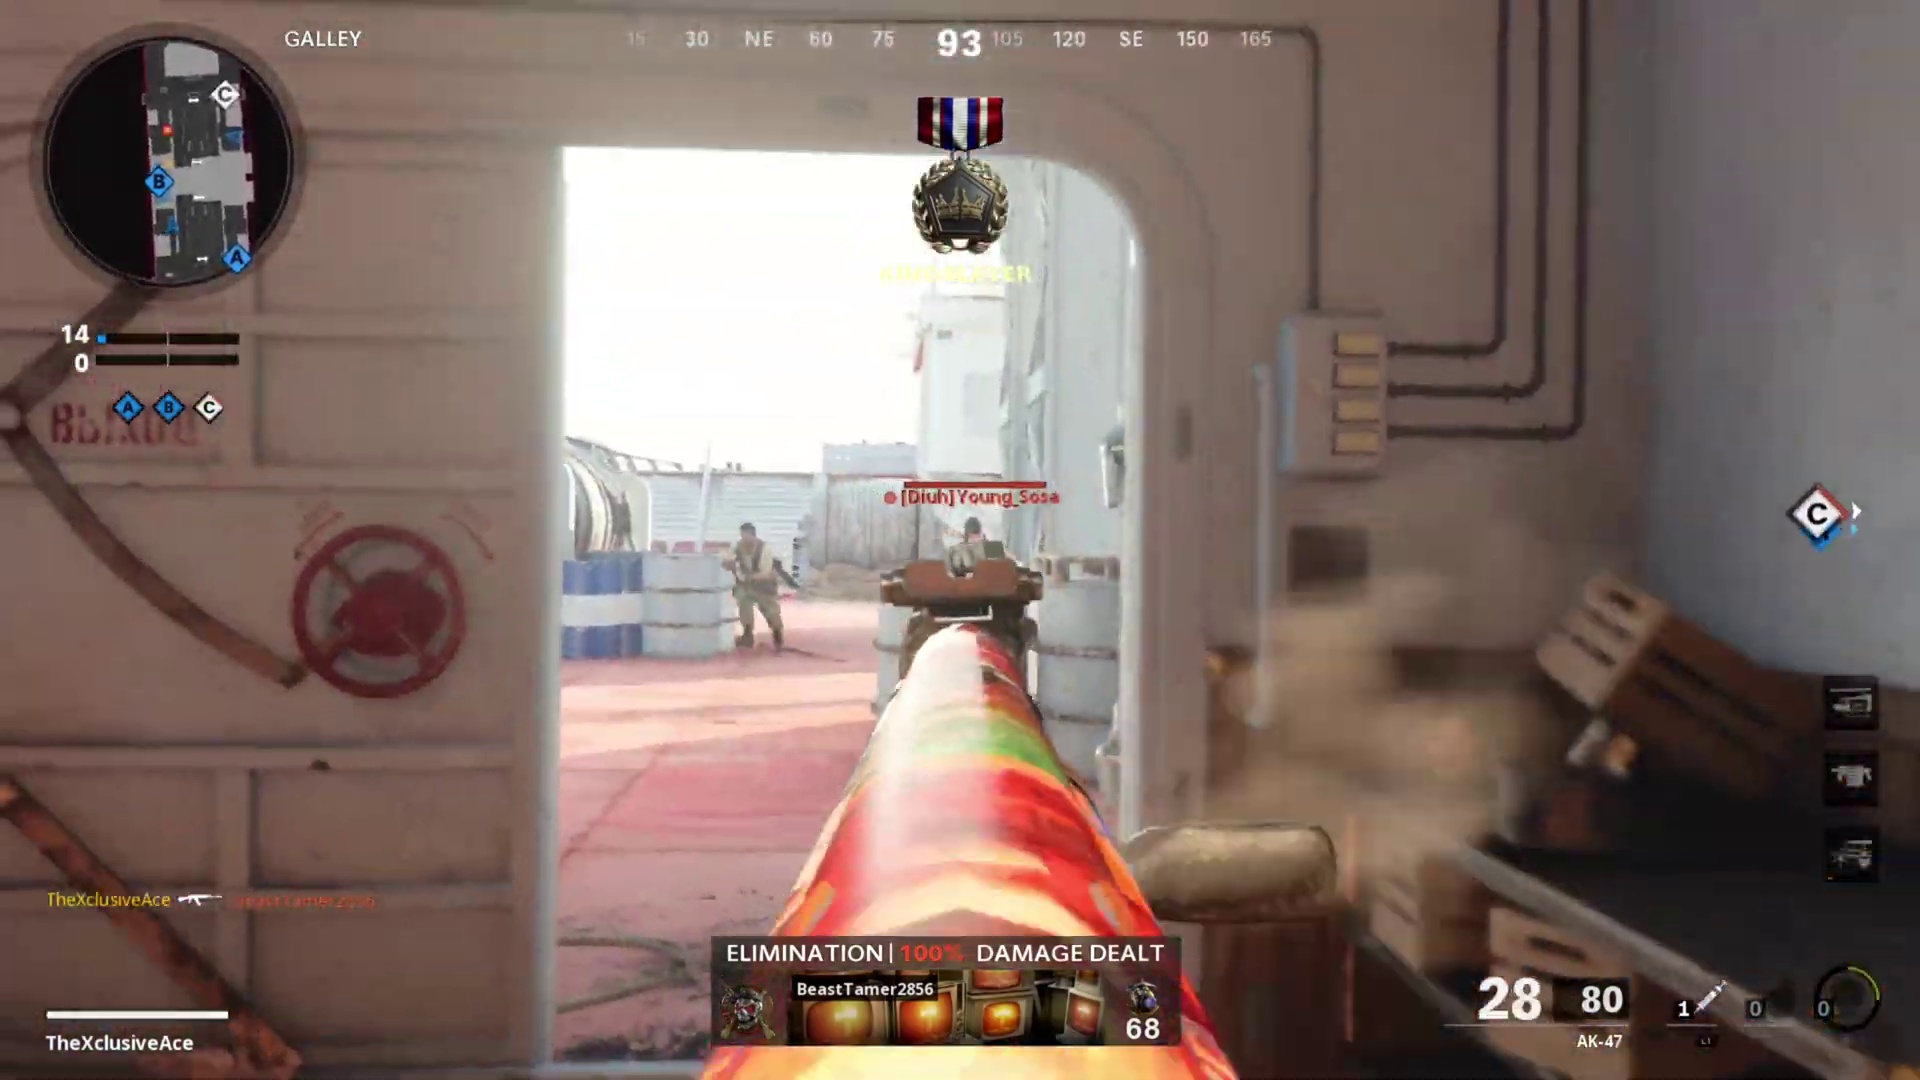head: (956, 515, 984, 548), (738, 516, 763, 547)
person: (726, 518, 789, 651)
